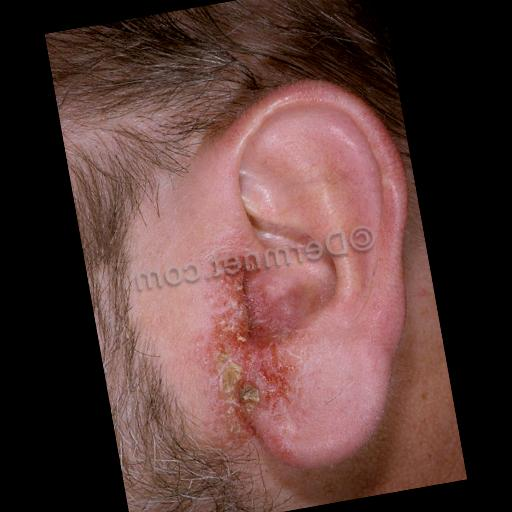Skin_Lesion: (203, 308, 288, 372), (233, 364, 279, 422)
